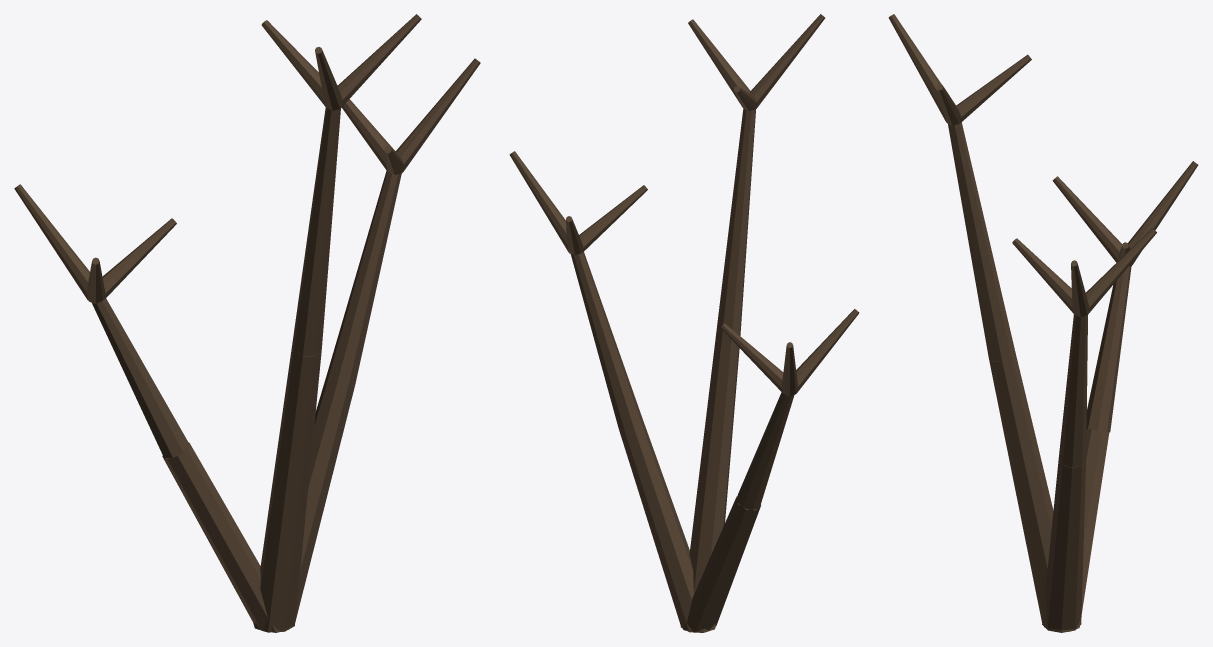
Rendered from blueberry_young_winter.glb.
3 renders of one model, left to right at view 1: azimuth 30°, elevation 25°; view 2: azimuth 150°, elevation 25°; view 3: azimuth 270°, elevation 25°, orthographic. The views are drawn at different scales.
Visible parts, largest first — view 1: blueberry_young_winter; view 2: blueberry_young_winter; view 3: blueberry_young_winter.
Part boxes in pixels (box(x1,y1,x2,y2)): blueberry_young_winter: box(14, 14, 480, 632); blueberry_young_winter: box(509, 14, 859, 632); blueberry_young_winter: box(888, 14, 1198, 632).
Bounding box in the file's own units: 0.4782 × 0.7551 × 0.3604.
